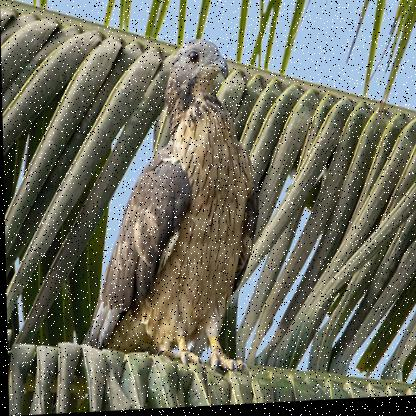Burung: (69, 40, 264, 378)
